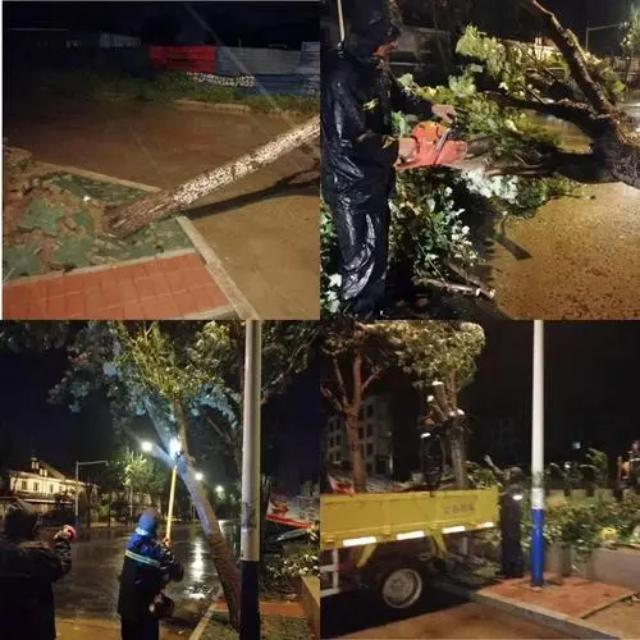fallen_tree: (58, 313, 262, 629), (466, 2, 636, 186), (99, 111, 319, 237)
